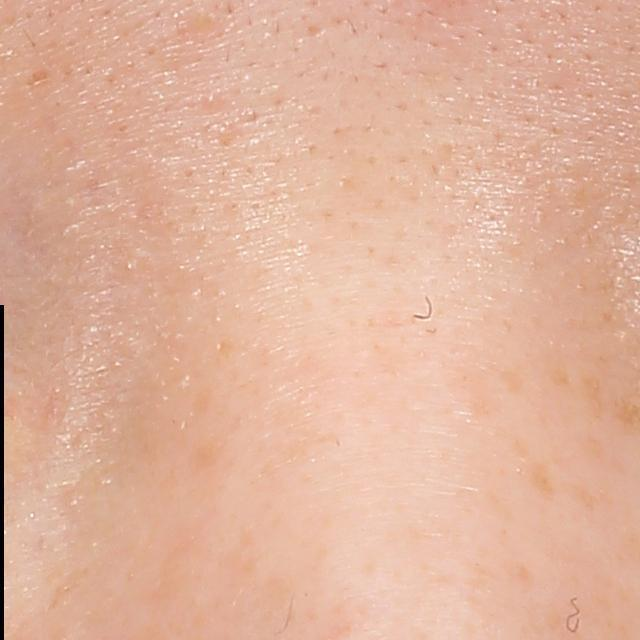melasma: (566, 480, 602, 518), (520, 462, 555, 501), (545, 365, 572, 397)
